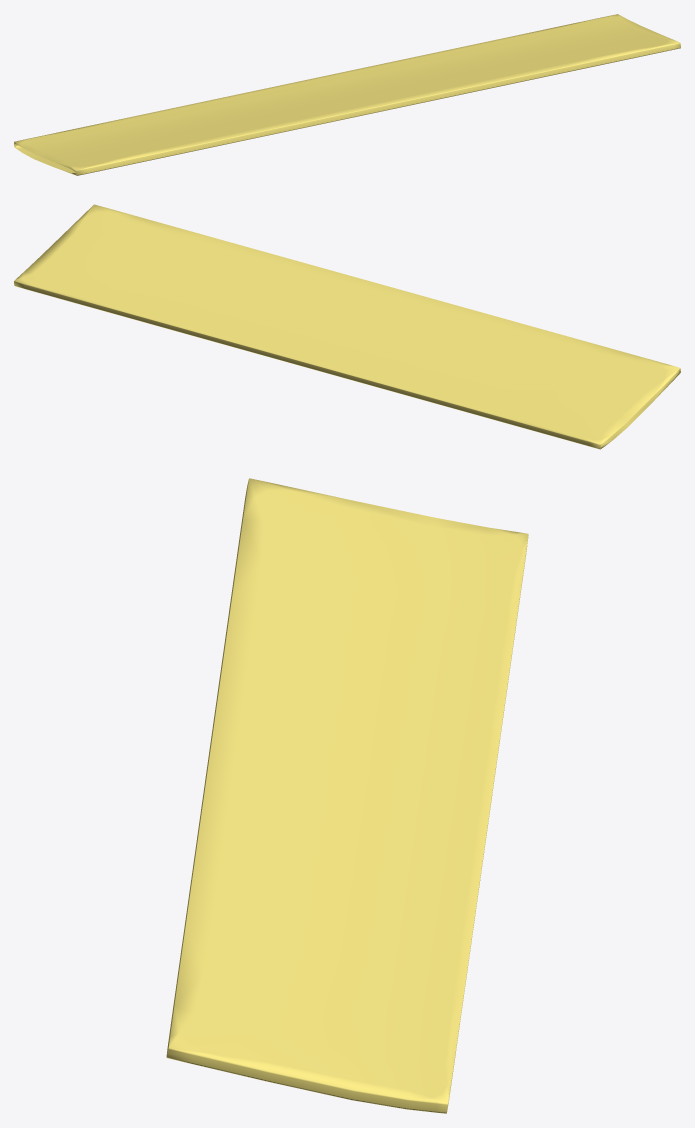
The model's file is Hood_Light_0.obj.
The picture shows the model from 3 angles, top to bottom: view 1: azimuth 30°, elevation 25°; view 2: azimuth 150°, elevation 25°; view 3: azimuth 270°, elevation 25°; orthographic projection. The views are drawn at different scales.
Visible parts, largest first — view 1: Hood_Light_0; view 2: Hood_Light_0; view 3: Hood_Light_0.
Part boxes in pixels (bbox=[...]): Hood_Light_0: bbox=[14, 14, 680, 175]; Hood_Light_0: bbox=[14, 204, 680, 449]; Hood_Light_0: bbox=[166, 478, 528, 1113].
Bounding box in the file's own units: 0.3103 × 0.0148 × 0.0823.
